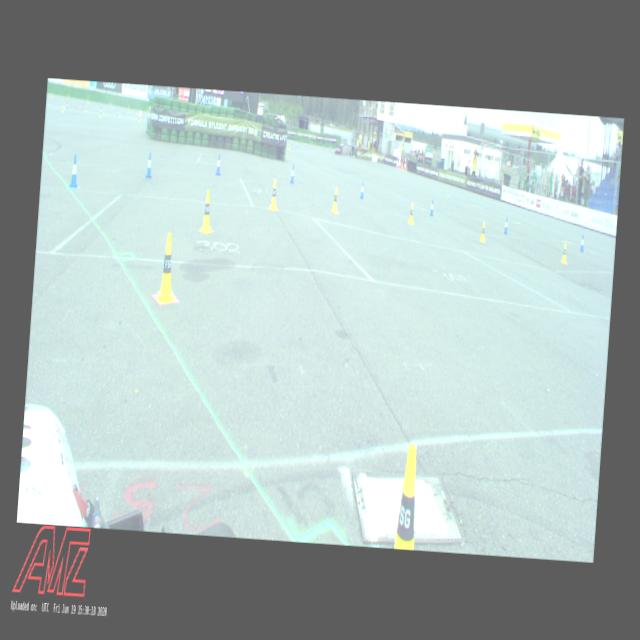blue_cone: (69, 154, 80, 188), (144, 152, 154, 178), (215, 153, 222, 175), (359, 182, 365, 200), (579, 234, 585, 252), (502, 216, 508, 234), (289, 165, 295, 182), (428, 200, 434, 217)
large_orange_cone: (402, 154, 407, 170), (401, 160, 404, 169), (398, 156, 400, 168), (396, 159, 398, 168)
yellow_cone: (394, 444, 421, 550), (154, 232, 179, 304), (199, 190, 215, 232), (266, 178, 280, 210), (331, 188, 340, 212), (560, 242, 568, 264), (479, 222, 486, 242), (408, 203, 414, 224), (288, 144, 290, 150)
